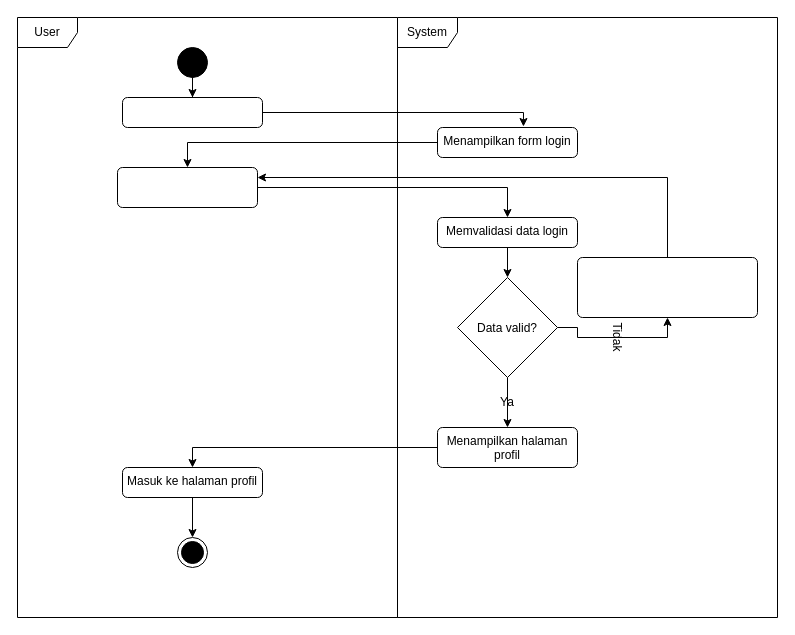
Some shapes in this 795 by 635 pixel diagram are drawn without their labels. Each missing label, with the centre of its shape:
Input username dan password: point 187,187
Masuk Aplikasi: point 192,112
Menampilkan pesan kesalahan, kemudian User kembali mengisi username dan password: point 667,287
